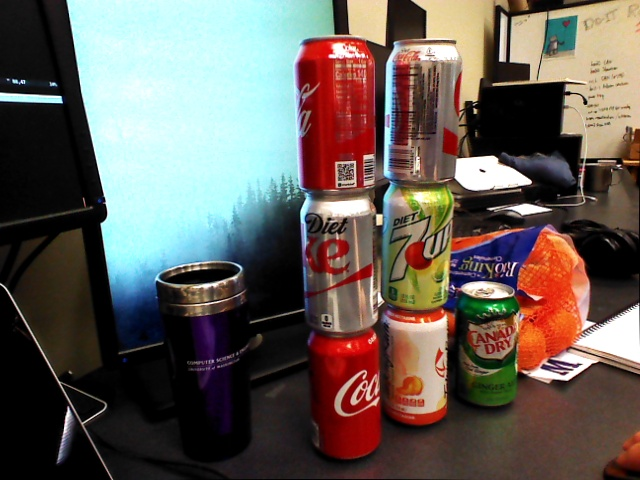can_coke: (295, 34, 377, 193), (307, 330, 381, 459)
can_diet_coke: (385, 37, 462, 184), (298, 193, 378, 334)
can_diet_seven_up: (381, 183, 452, 311)
can_ginger_ale: (454, 282, 520, 411)
can_talking_rain_peach_nectarine: (382, 306, 450, 426)
